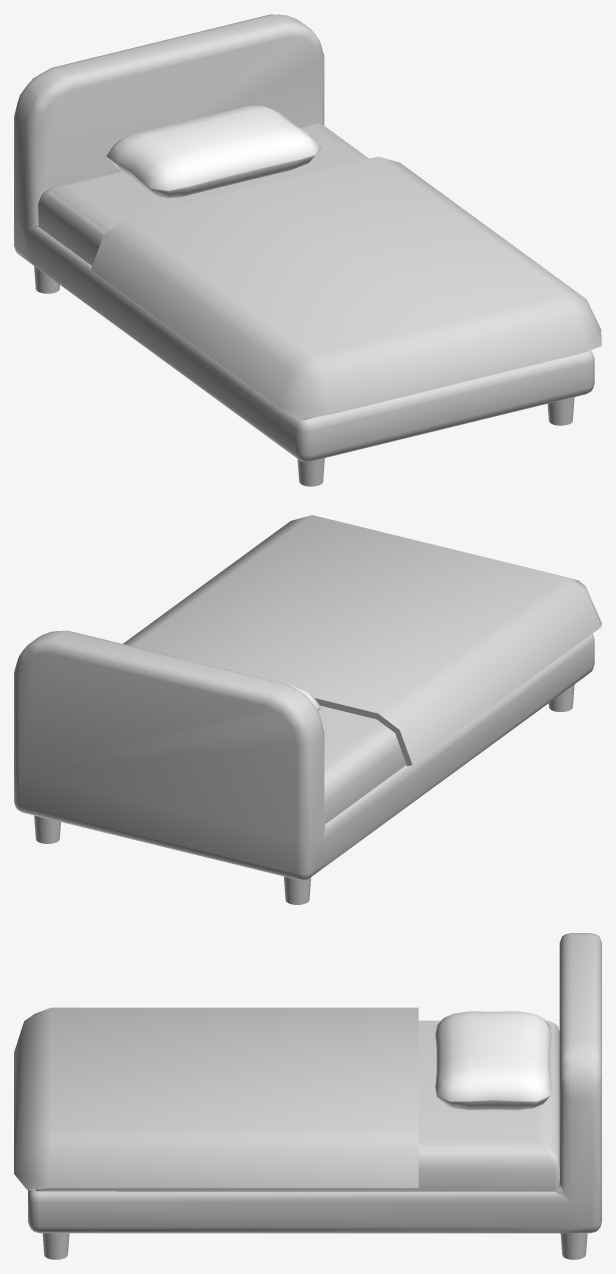
File: bed2.fbx
3 views of the same model, one above another, from view 1: azimuth 30°, elevation 25°; view 2: azimuth 150°, elevation 25°; view 3: azimuth 270°, elevation 25° (orthographic).
Visible parts, largest first — view 1: Plane.007, Cube.060, Cube.061, Cube.059, Cylinder.027; view 2: Cube.060, Plane.007, Cube.059, Cylinder.027; view 3: Plane.007, Cube.060, Cube.059, Cube.061, Cylinder.027.
Part boxes in pixels (bbox=[...]): Plane.007: bbox=[91, 156, 601, 419]; Cube.060: bbox=[14, 14, 594, 461]; Cube.061: bbox=[106, 105, 320, 198]; Cube.059: bbox=[38, 123, 368, 419]; Cylinder.027: bbox=[34, 266, 574, 486]; Cube.060: bbox=[14, 630, 594, 880]; Plane.007: bbox=[123, 515, 601, 766]; Cube.059: bbox=[318, 705, 406, 823]; Cylinder.027: bbox=[34, 684, 574, 904]; Plane.007: bbox=[14, 1007, 418, 1189]; Cube.060: bbox=[28, 933, 601, 1233]; Cube.059: bbox=[35, 1020, 559, 1191]; Cube.061: bbox=[435, 1011, 551, 1110]; Cylinder.027: bbox=[42, 1233, 587, 1259].
Size of the model in its own units: 320 by 200 by 515.
